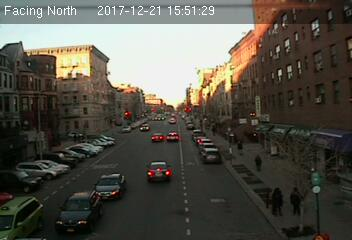car: (55, 192, 104, 234), (95, 173, 125, 199), (145, 161, 170, 182), (202, 148, 223, 164), (150, 132, 164, 142), (167, 132, 179, 142)
pedestrian: (289, 187, 304, 217), (271, 187, 284, 217), (252, 152, 263, 172)
